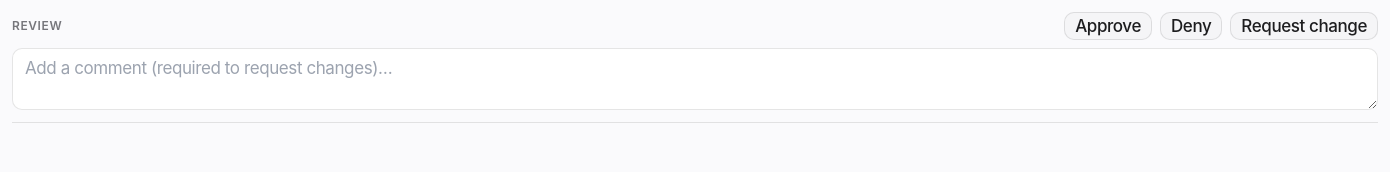
Test case: <TaskReviewBar> › Request change with an empty comment is blocked and shows an error
Click the button "Request change".
click(1304, 26)  # box [1230,12,1378,40]
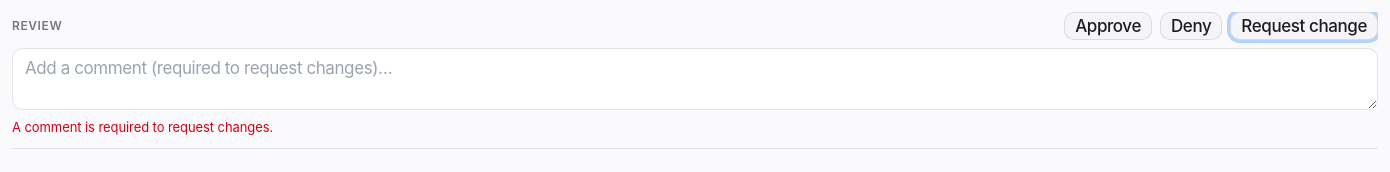
Now the text "A comment is required to request changes." is shown, box [12,119,273,135]
